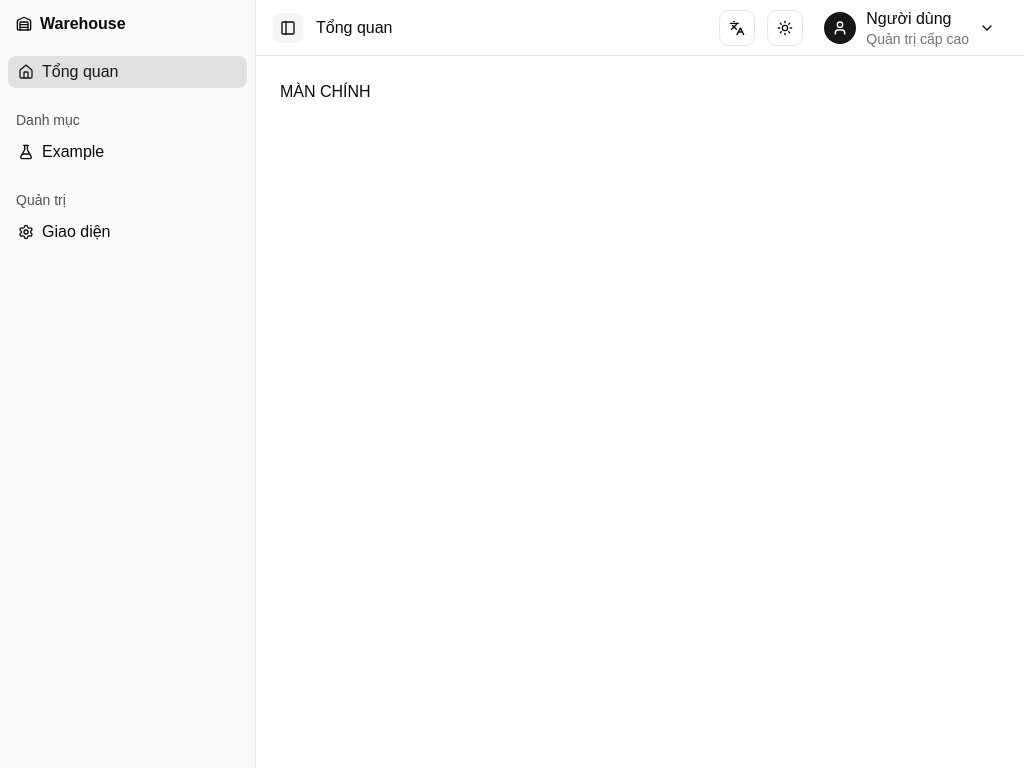
it: AppShell — menu tài khoản › Đổi mật khẩu → mở dialog đổi mật khẩu
Click the button "Người dùng Quản trị cấp cao" at (912, 28), box [815, 4, 1008, 52]
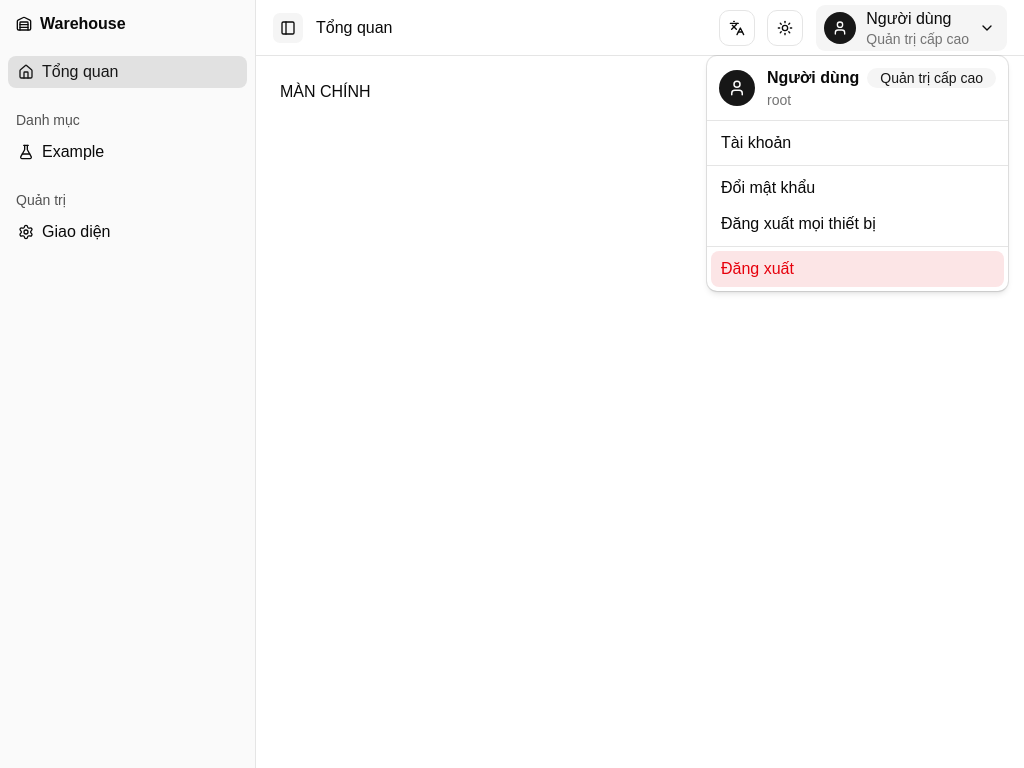
Click the menu item "Đổi mật khẩu" at (768, 188), box [721, 179, 815, 196]
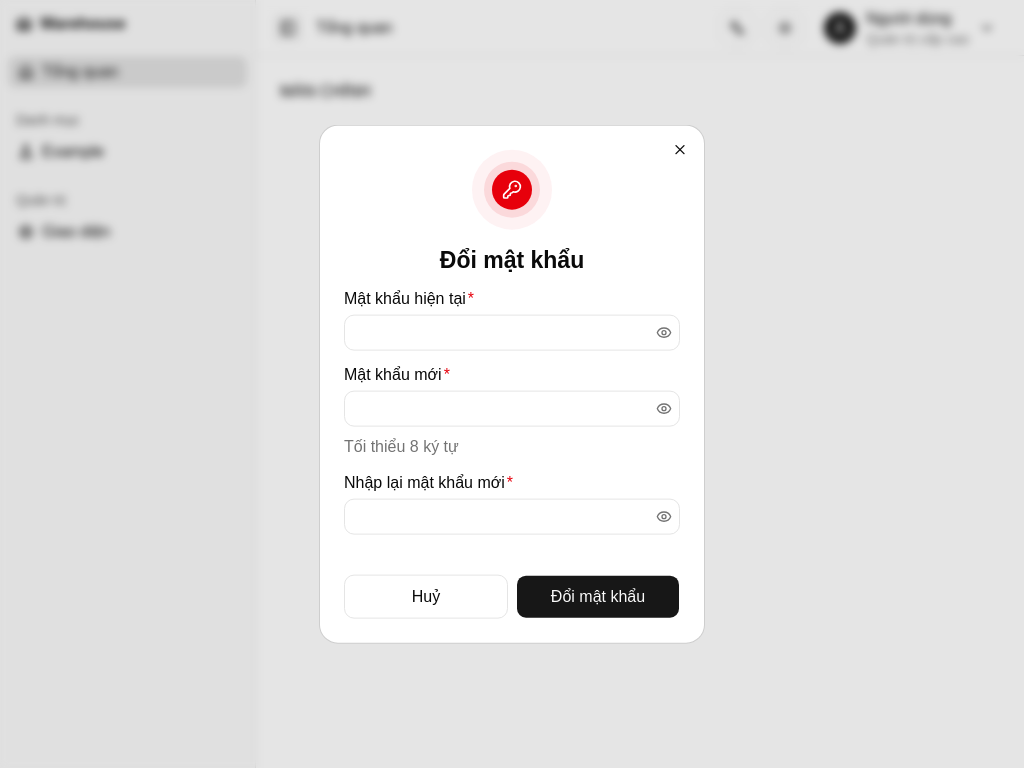
Check: the password field labelled "Mật khẩu hiện tại *" is shown, box [345, 314, 652, 350]
Check: the dialog is shown, box [320, 126, 704, 642]
